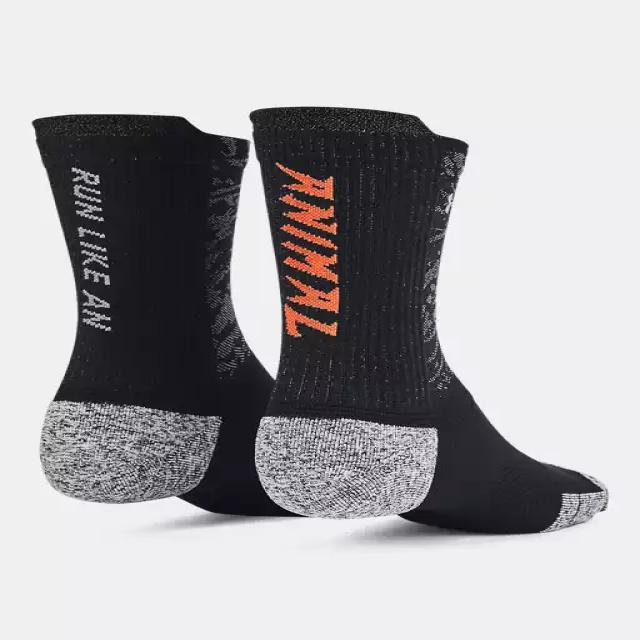sock: (247, 105, 608, 534), (30, 113, 284, 509)
